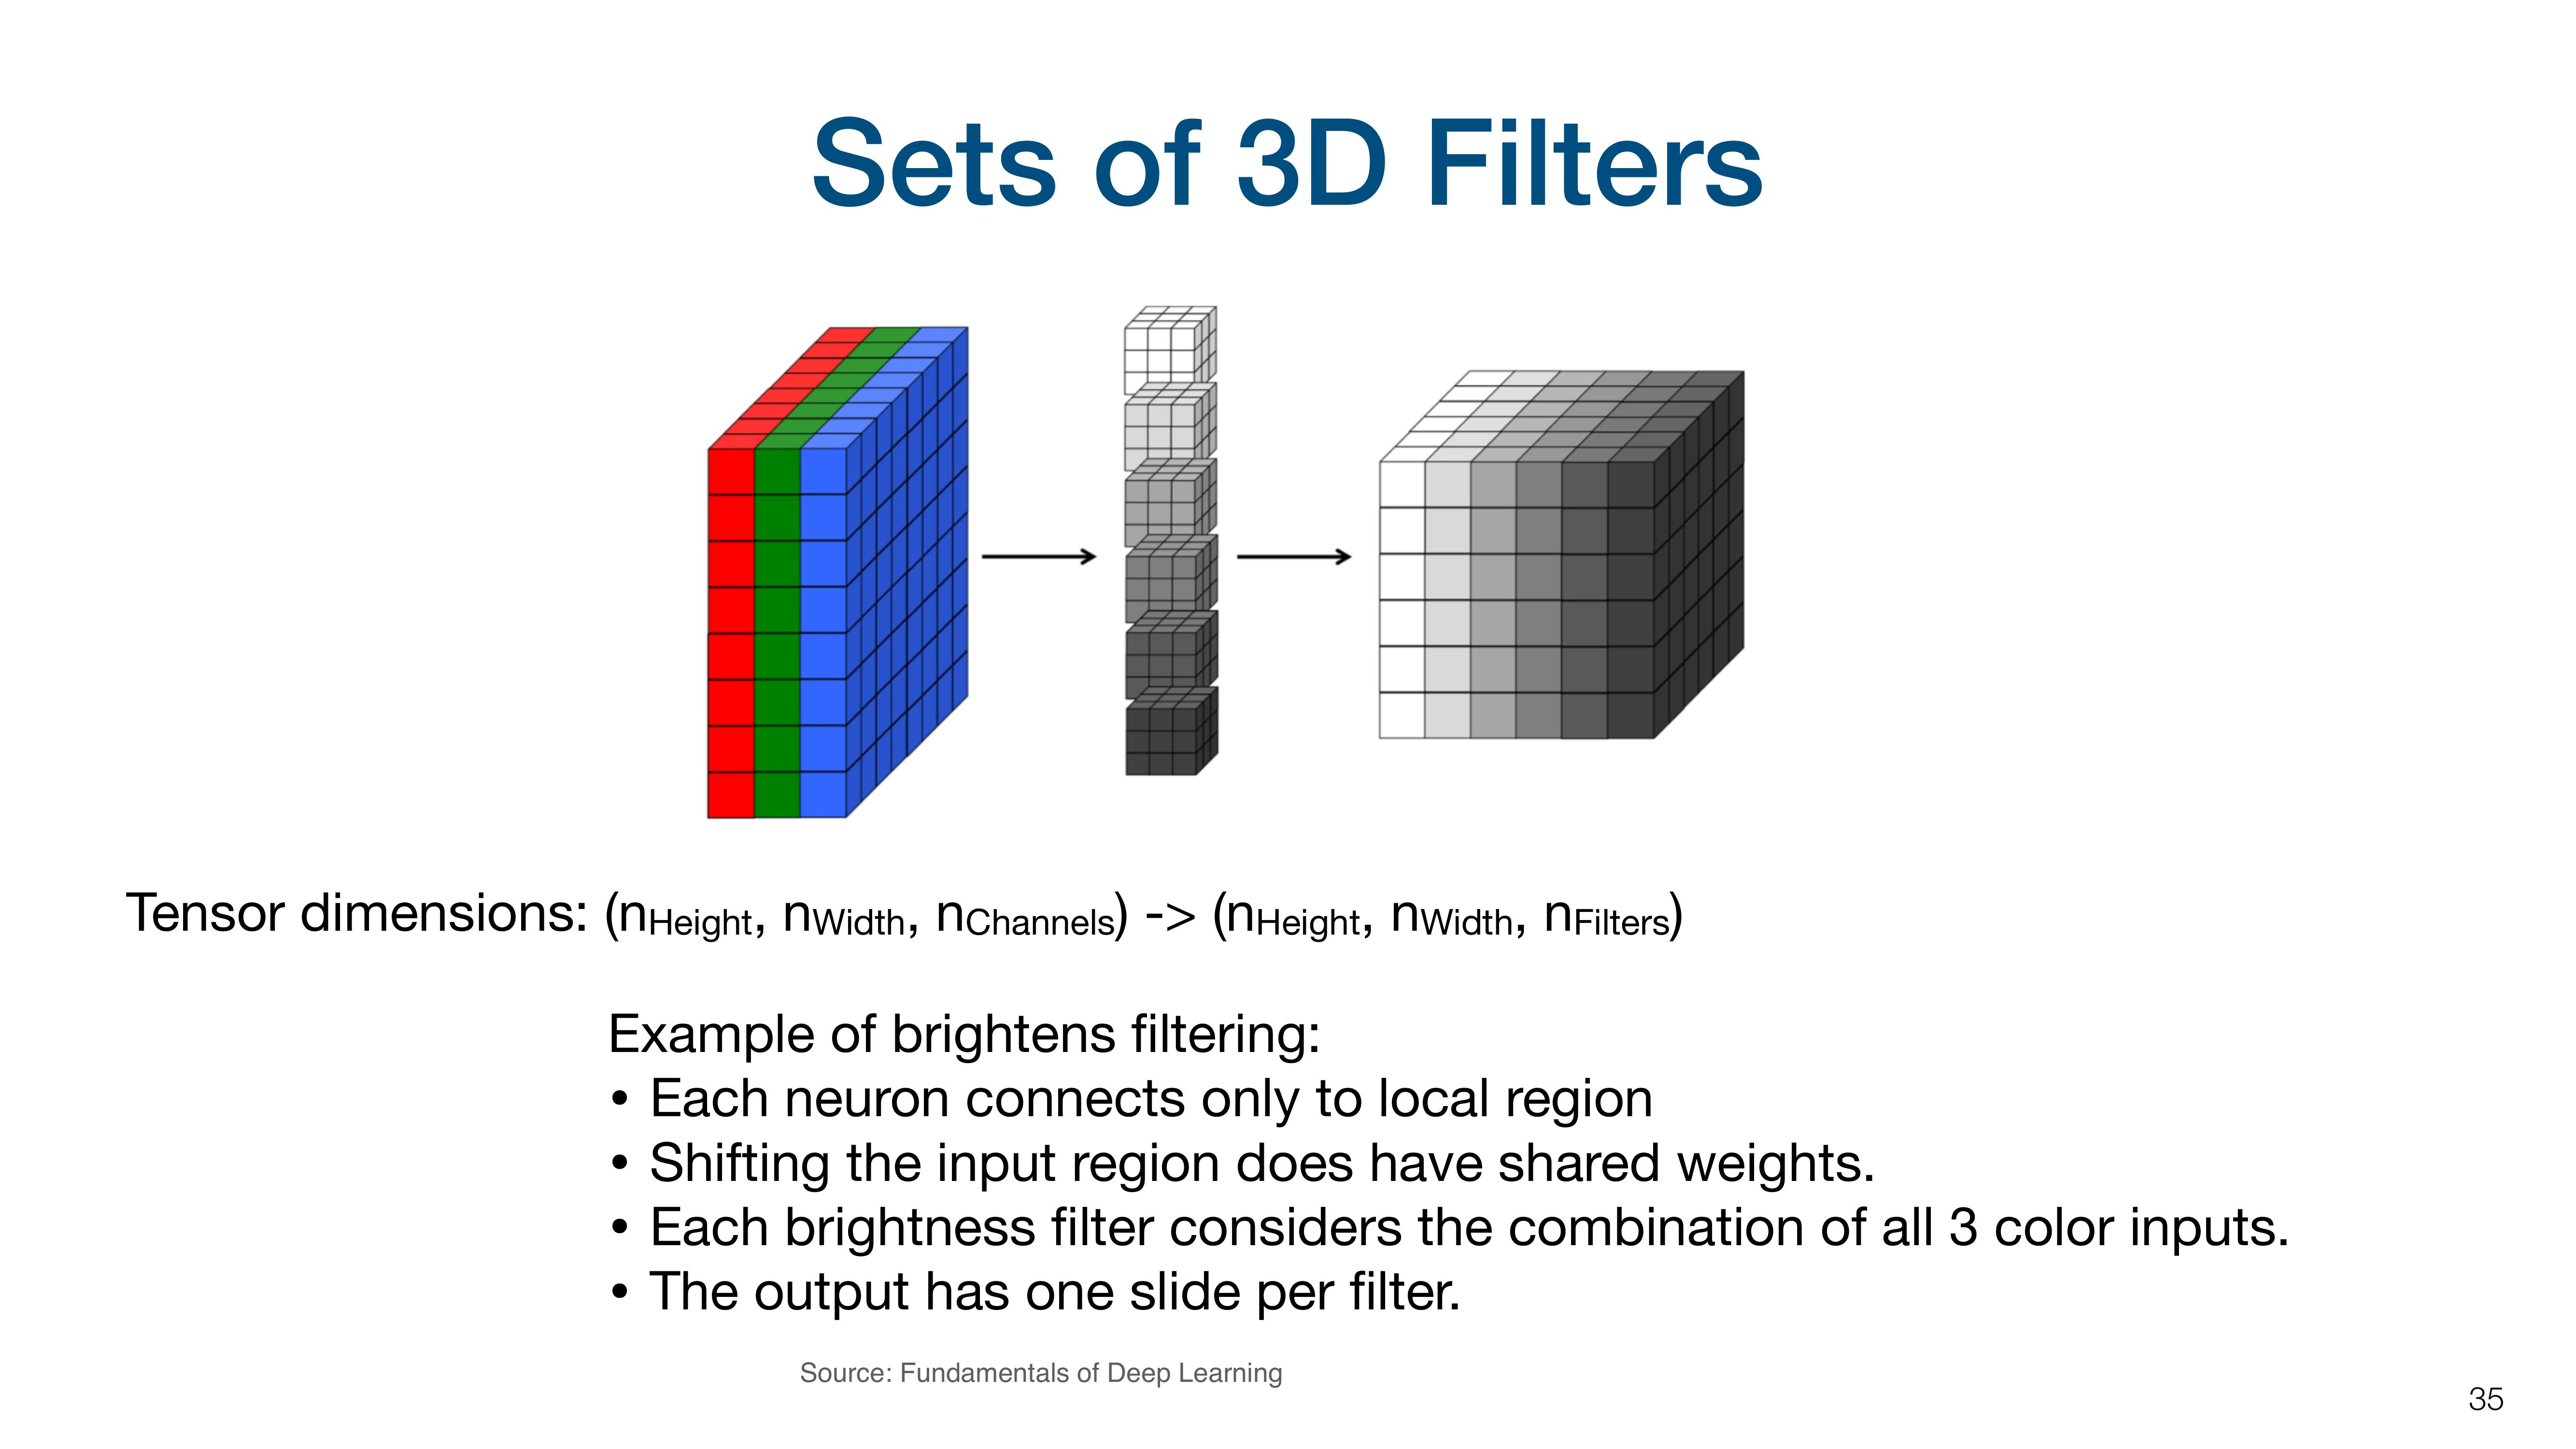Title: (801, 96, 1778, 253)
